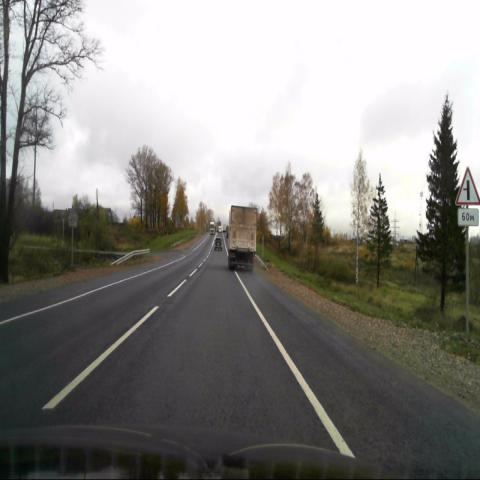8_1_1: (457, 210, 479, 227)
